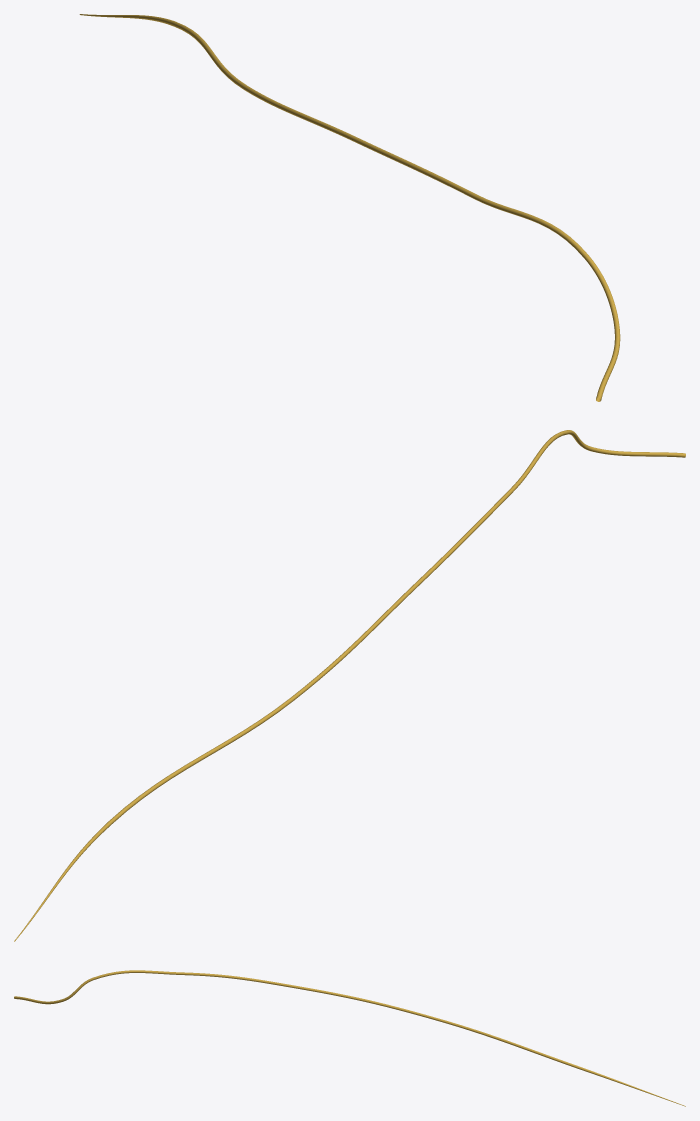
3 renders of one model, top to bottom at view 1: azimuth 30°, elevation 25°; view 2: azimuth 150°, elevation 25°; view 3: azimuth 270°, elevation 25°, orthographic. The views are drawn at different scales.
Visible parts, largest first — view 1: 左侧桡神经深支; view 2: 左侧桡神经深支; view 3: 左侧桡神经深支.
Part boxes in pixels (x1,y1,x2,y2): 左侧桡神经深支: (79, 14, 620, 401); 左侧桡神经深支: (14, 430, 685, 941); 左侧桡神经深支: (14, 970, 685, 1106).
Bounding box in the file's own units: 0.0484 × 0.0673 × 0.3633.
